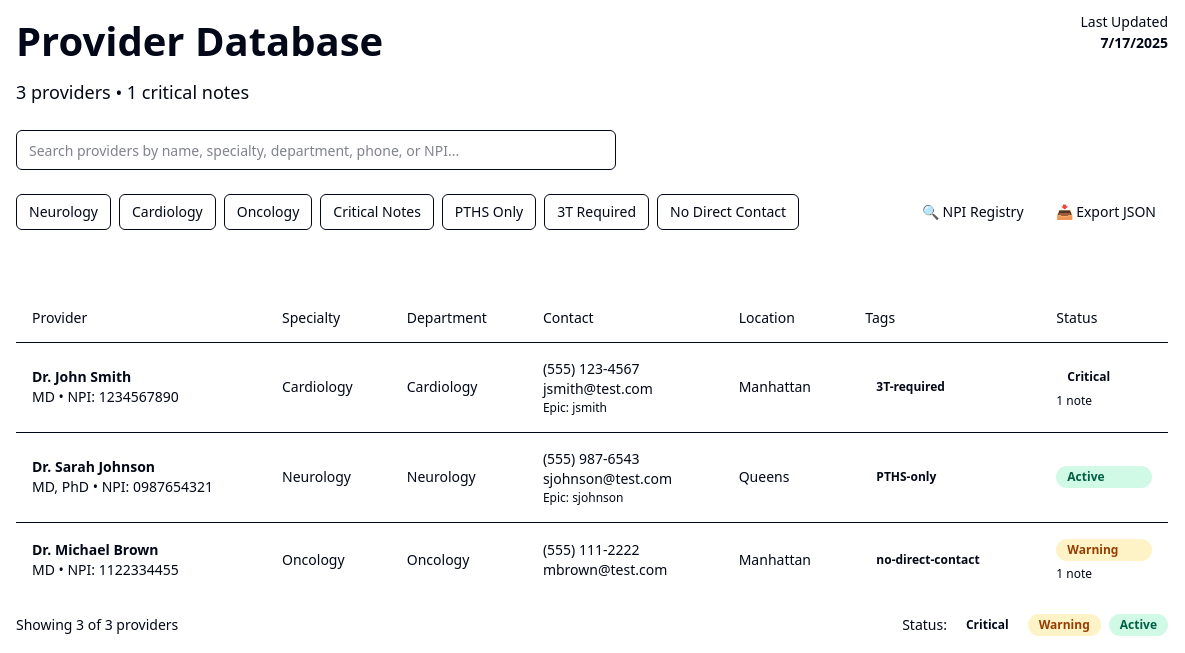
Test case: Providers Page › Filter Functionality › filters by department - Cardiology
The image size is (1185, 653).
Click the button "Cardiology".
click(167, 212)  # box [119,194,216,230]
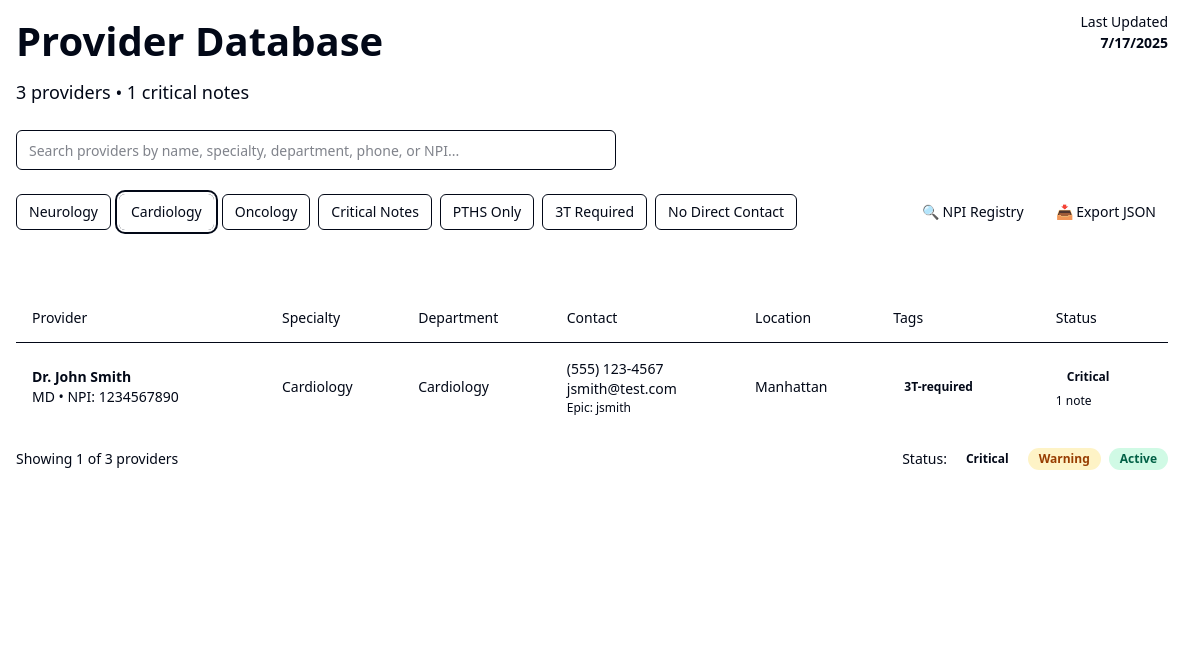
Expected: the text "Dr. John Smith" is shown, [32,367,131,386]
Expected: the text "Dr. Sarah Johnson" is gone
Expected: the text "Dr. Michael Brown" is gone
